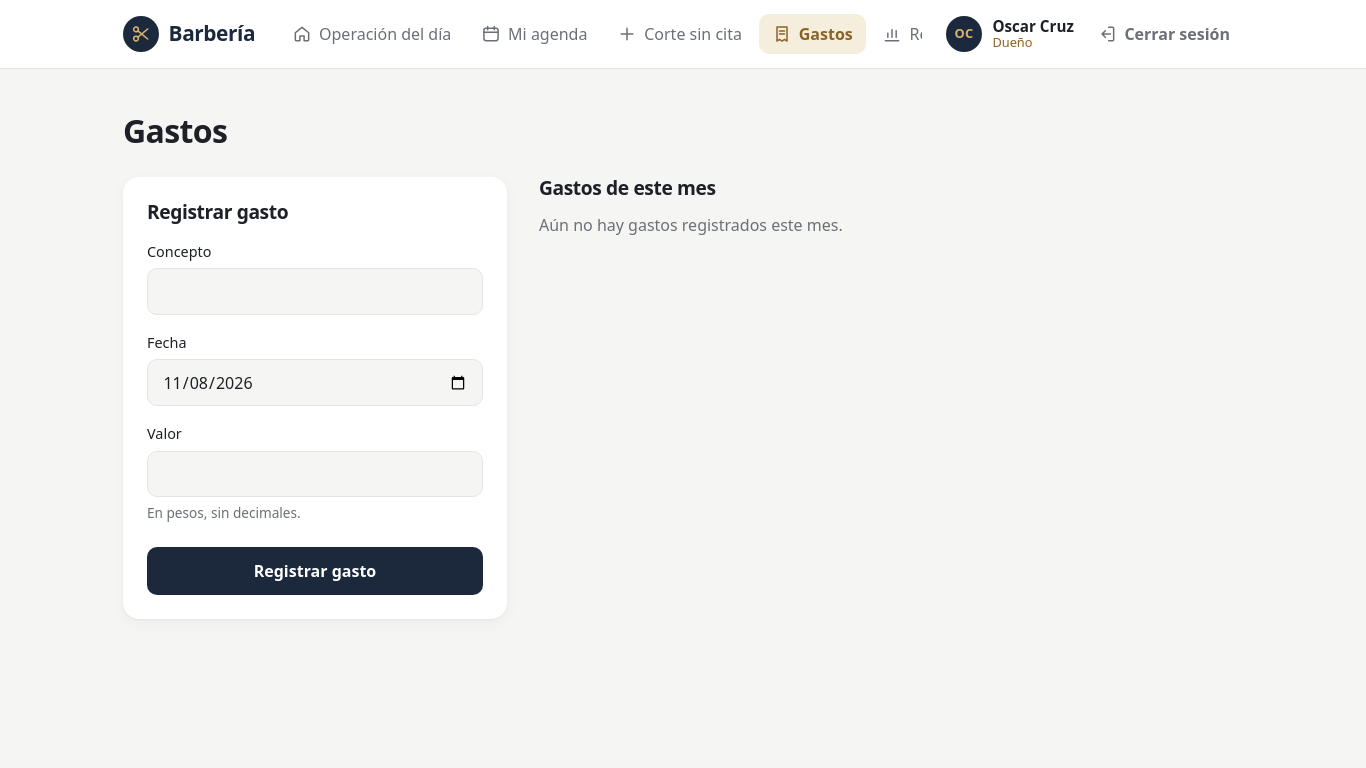
Test: gastos (HU-14) › registra el gasto y actualiza el resumen del mes
The width and height of the screenshot is (1366, 768).
Type "Insumos" into the field labelled "Concepto".
click(315, 291); type("Insumos")  # box [147,268,483,315]
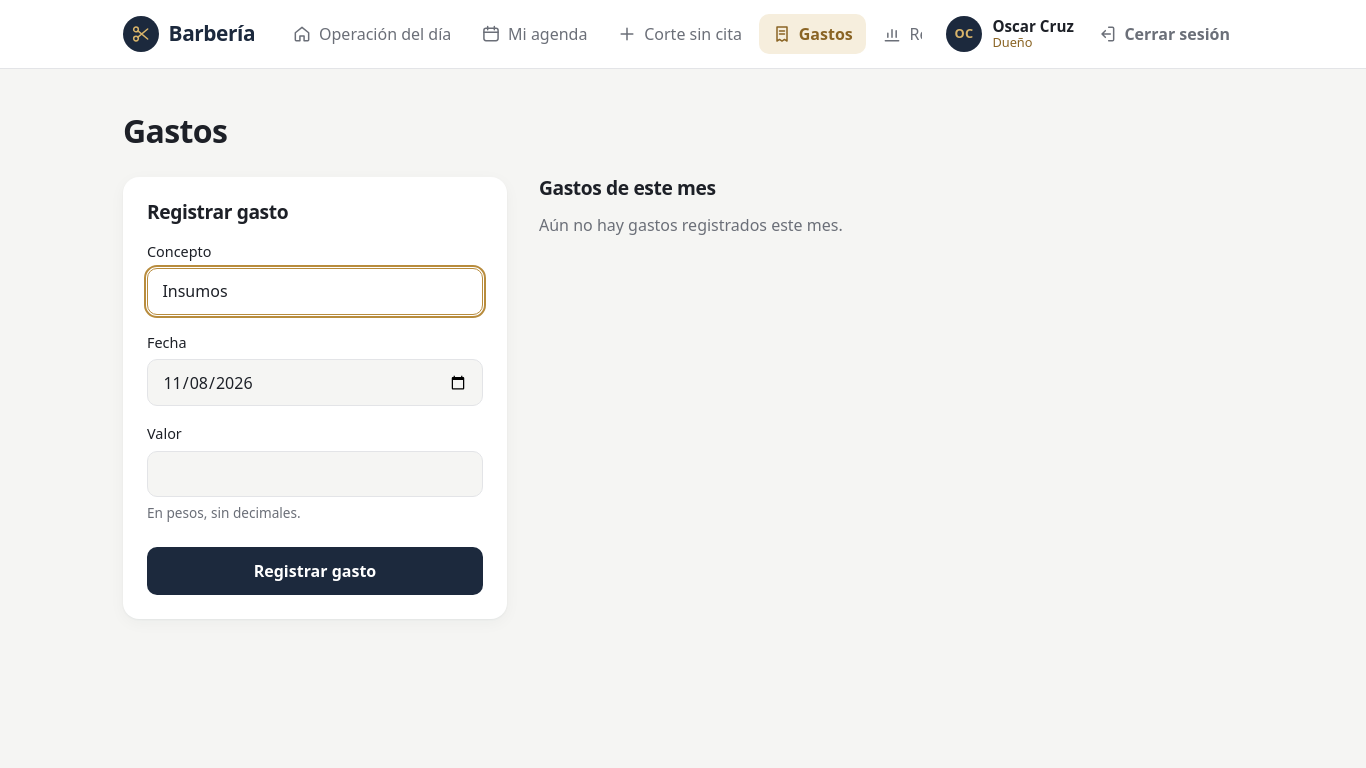
Type "50.000" into the field labelled "Valor".
click(315, 474); type("50.000")  # box [147,451,483,497]
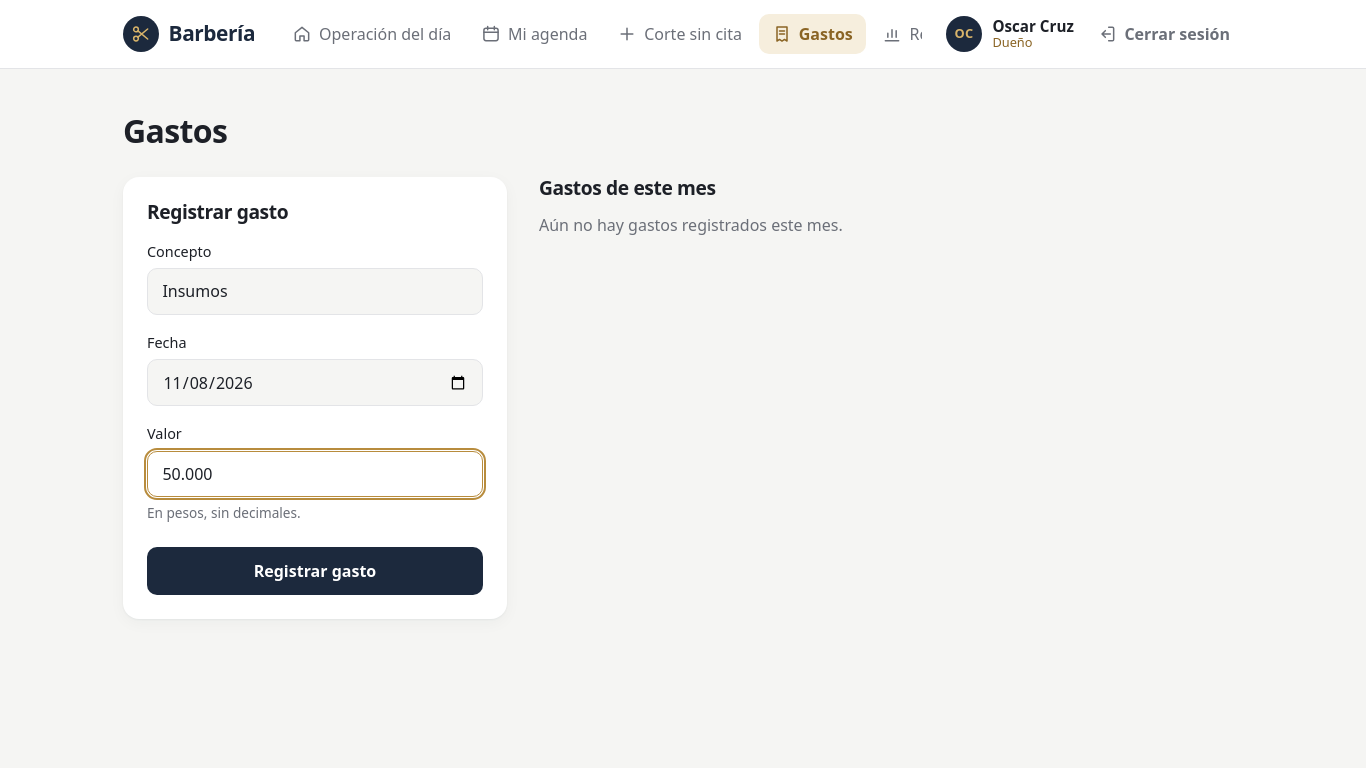
Click the button "Registrar gasto".
click(315, 571)  # box [147,547,483,595]
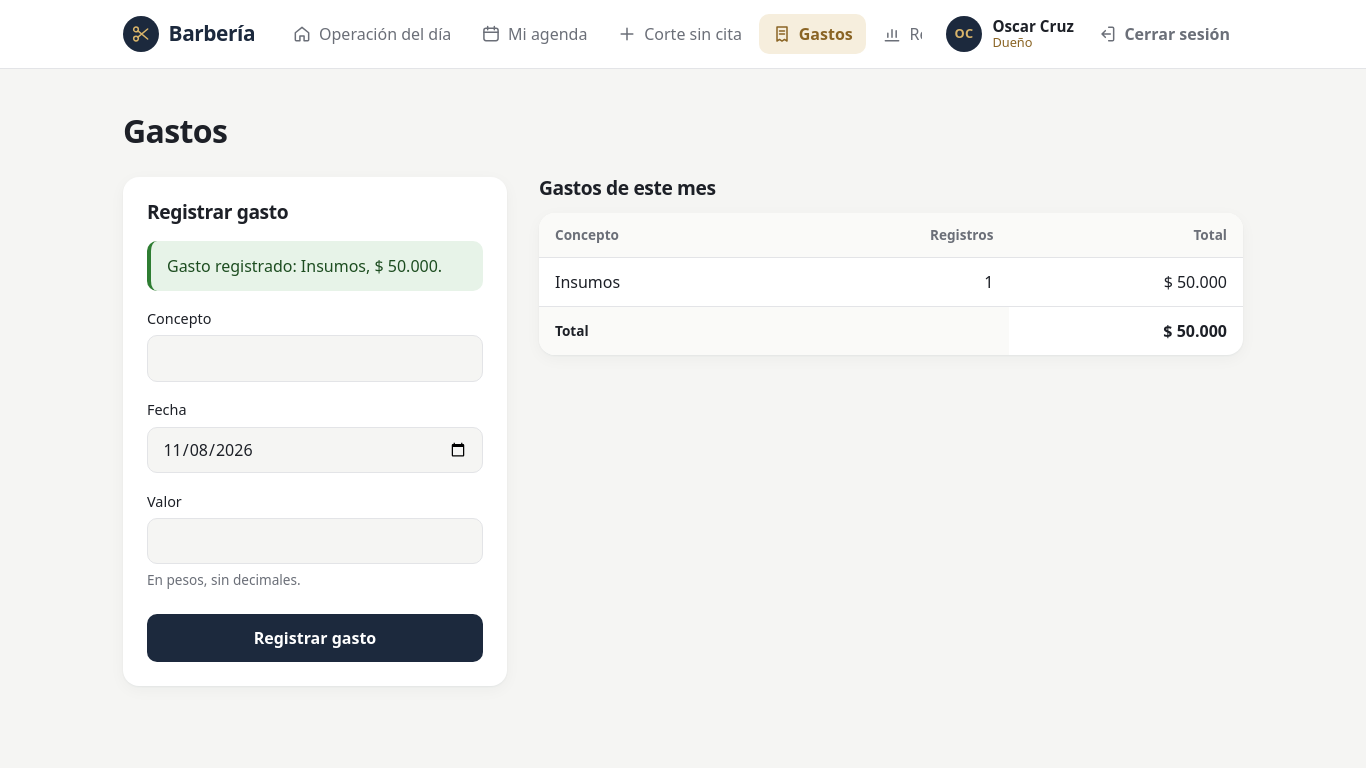
Expected: the cell "Insumos" is shown, [539,258,776,307]
